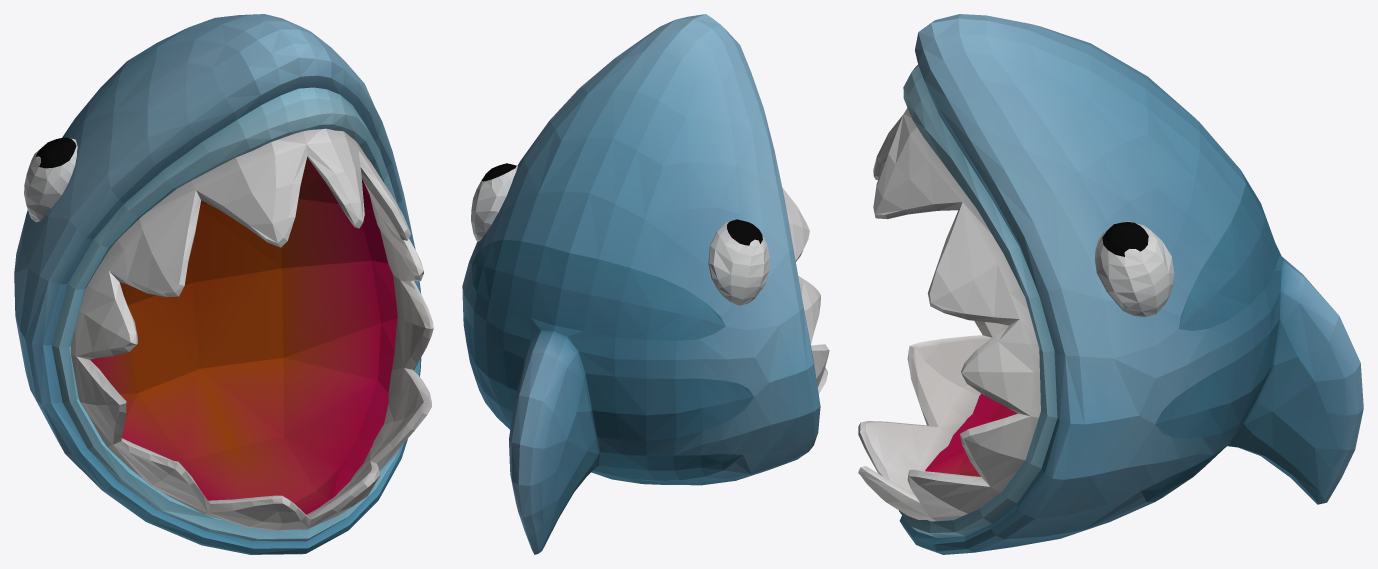
Rendered from SharkHankHat.glb.
3 renders of one model, left to right at view 1: azimuth 30°, elevation 25°; view 2: azimuth 150°, elevation 25°; view 3: azimuth 270°, elevation 25°, orthographic. The views are drawn at different scales.
Visible parts, largest first — view 1: SharkHankHat; view 2: SharkHankHat; view 3: SharkHankHat.
Boxes of the visible parts, x1,y1,x2,y2 form: SharkHankHat: (14, 14, 433, 554); SharkHankHat: (462, 14, 829, 554); SharkHankHat: (858, 14, 1363, 554).
Size of the model in its own units: 0.5178 by 0.6539 by 0.5849.
